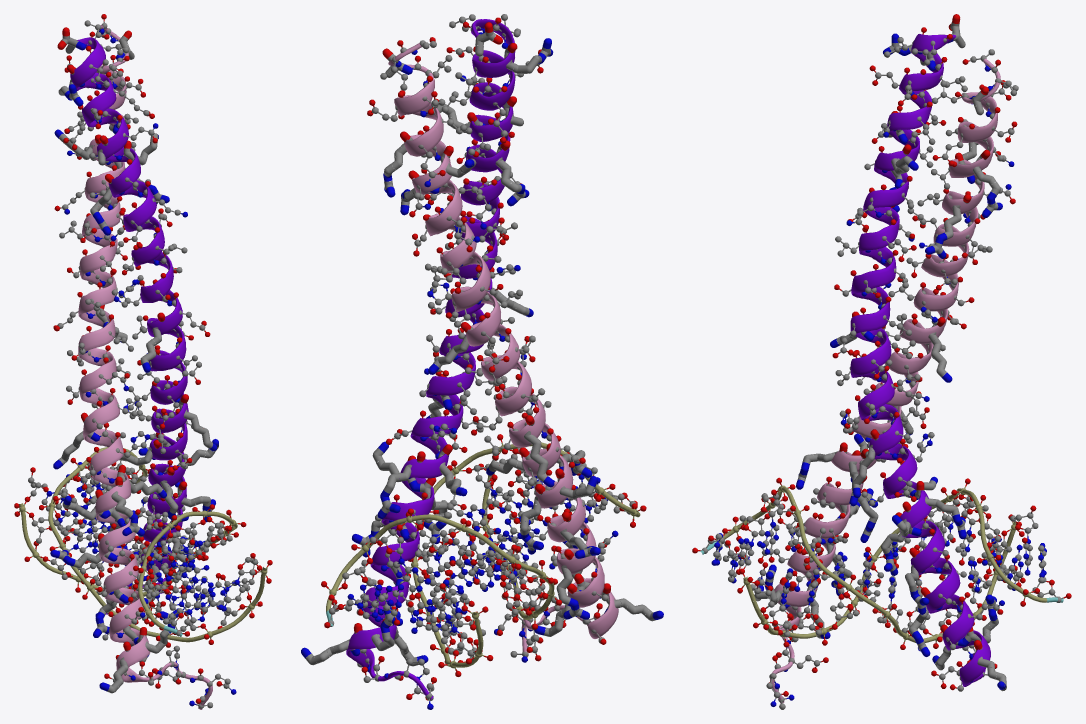
Rendered from dna-tube-cpk--protein-cartoon-cpk-ARG-LYS1.glb.
The picture shows the model from 3 angles, left to right: view 1: azimuth 30°, elevation 25°; view 2: azimuth 150°, elevation 25°; view 3: azimuth 270°, elevation 25°; orthographic projection. The views are drawn at different scales.
Visible parts, largest first — view 1: vmd_mol0_rep7, vmd_mol0_rep5, vmd_mol0_rep6, vmd_mol0_rep9, vmd_mol0_rep1; view 2: vmd_mol0_rep7, vmd_mol0_rep9, vmd_mol0_rep5, vmd_mol0_rep6, vmd_mol0_rep1; view 3: vmd_mol0_rep7, vmd_mol0_rep6, vmd_mol0_rep9, vmd_mol0_rep5, vmd_mol0_rep1.
Part boxes in pixels (bbox=[...]): vmd_mol0_rep7: bbox=[14, 14, 272, 708]; vmd_mol0_rep5: bbox=[78, 25, 212, 709]; vmd_mol0_rep6: bbox=[70, 37, 188, 614]; vmd_mol0_rep9: bbox=[50, 27, 218, 693]; vmd_mol0_rep1: bbox=[19, 447, 267, 642]; vmd_mol0_rep7: bbox=[321, 14, 646, 709]; vmd_mol0_rep9: bbox=[301, 22, 663, 666]; vmd_mol0_rep5: bbox=[388, 43, 618, 657]; vmd_mol0_rep6: bbox=[346, 19, 515, 699]; vmd_mol0_rep1: bbox=[326, 442, 640, 667]; vmd_mol0_rep7: bbox=[692, 27, 1071, 709]; vmd_mol0_rep6: bbox=[850, 34, 990, 686]; vmd_mol0_rep9: bbox=[754, 14, 1006, 691]; vmd_mol0_rep5: bbox=[770, 58, 1000, 703]; vmd_mol0_rep1: bbox=[700, 486, 1063, 642].
Bounding box in the file's own units: 0.6332 × 1.89 × 0.9767.
